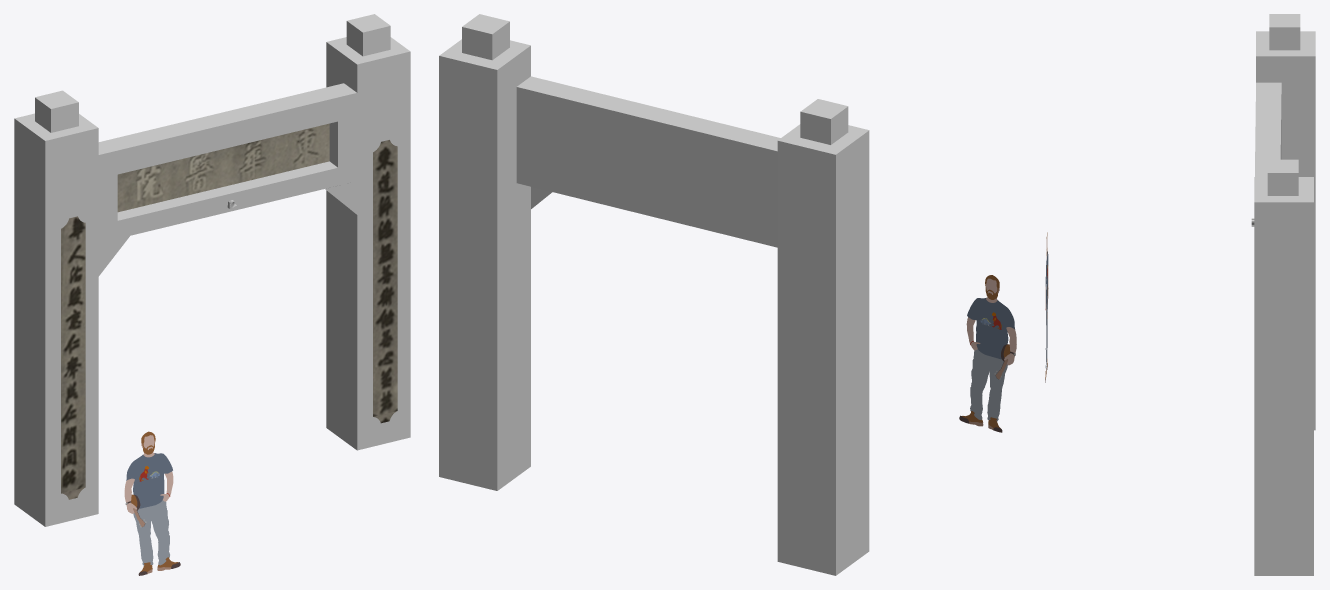
The model's file is tung-wah-archway-1870.glb.
3 views of the same model, side by side, from view 1: azimuth 30°, elevation 25°; view 2: azimuth 150°, elevation 25°; view 3: azimuth 270°, elevation 25° (orthographic). The views are drawn at different scales.
Parts seen in each view (by area): view 1: mesh_0_ROOT_Layer0_255_255_255_ds, mesh_4_ROOT_Layer0_178_173_159_ss, mesh_3_ROOT_Layer0_140_134_122_ss, mesh_1_ROOT_Layer0_150_144_131_ss, mesh_10_ROOT__Ty_Layer0_48_62_87_ds, mesh_18_ROOT__Ty_Layer0_117_131_150_ds, mesh_6_ROOT__Ty_Layer0_255_178_153_ds; view 2: mesh_0_ROOT_Layer0_255_255_255_ds, mesh_10_ROOT__Ty_Layer0_48_62_87_ds, mesh_18_ROOT__Ty_Layer0_117_131_150_ds; view 3: mesh_0_ROOT_Layer0_255_255_255_ds.
Part boxes in pixels (x1,y1,x2,y2): mesh_0_ROOT_Layer0_255_255_255_ds: (14,14,410,526); mesh_4_ROOT_Layer0_178_173_159_ss: (117,123,329,212); mesh_3_ROOT_Layer0_140_134_122_ss: (373,140,397,423); mesh_1_ROOT_Layer0_150_144_131_ss: (61,216,85,499); mesh_10_ROOT__Ty_Layer0_48_62_87_ds: (126,453,172,508); mesh_18_ROOT__Ty_Layer0_117_131_150_ds: (133,475,169,565); mesh_6_ROOT__Ty_Layer0_255_178_153_ds: (124,435,173,513); mesh_0_ROOT_Layer0_255_255_255_ds: (439,14,869,575); mesh_10_ROOT__Ty_Layer0_48_62_87_ds: (967,297,1015,359); mesh_18_ROOT__Ty_Layer0_117_131_150_ds: (970,322,1007,421); mesh_0_ROOT_Layer0_255_255_255_ds: (1254,14,1315,575).
Size of the model in its own units: 27093 by 27132 by 16713.
19 materials, 3 textured.
